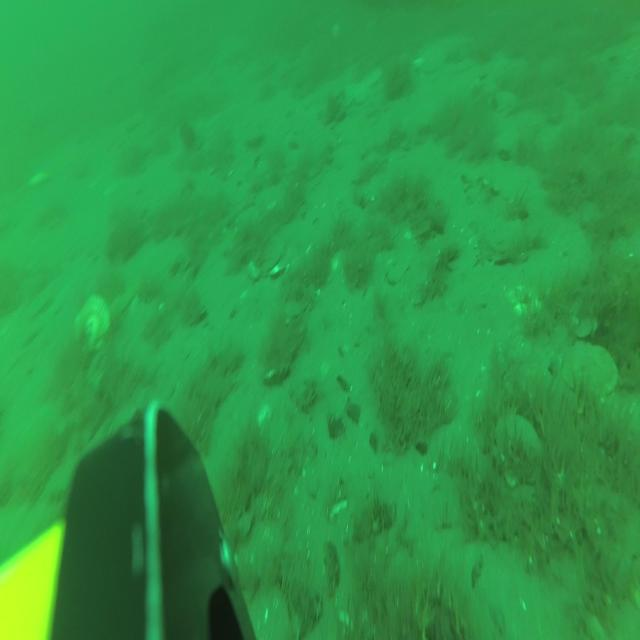scallop: (492, 413, 538, 487), (563, 337, 618, 394), (73, 296, 113, 345), (248, 246, 286, 281), (485, 91, 517, 113), (246, 125, 266, 146), (368, 63, 383, 85), (332, 23, 338, 37)
starfish: (344, 79, 373, 110)
